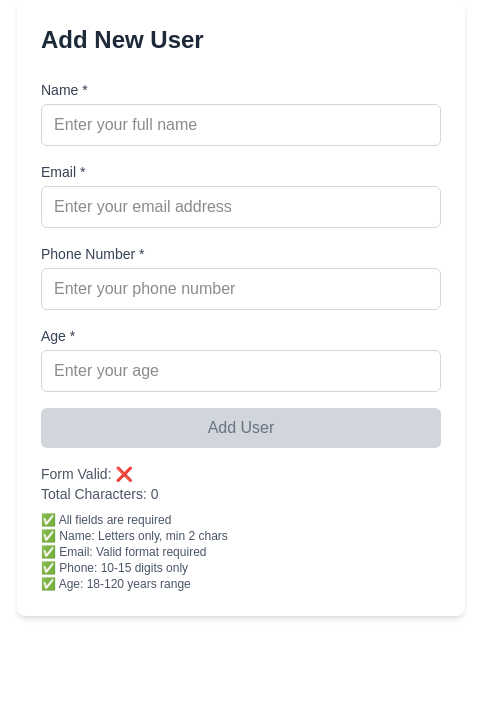
Scenario: UserForm Component - Working Tests Only › validates phone number format and length requirements
The image size is (483, 720).
Note: Test phone number too short
Type "123" into the field labelled "Phone Number *" at (241, 289), box top-left (41, 268), bottom-right (441, 310)
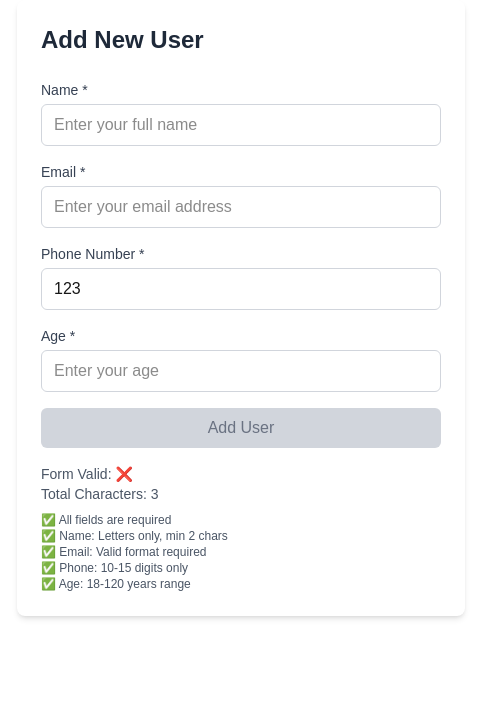
Click the button "Add User" at (241, 428), box top-left (41, 408), bottom-right (441, 448)
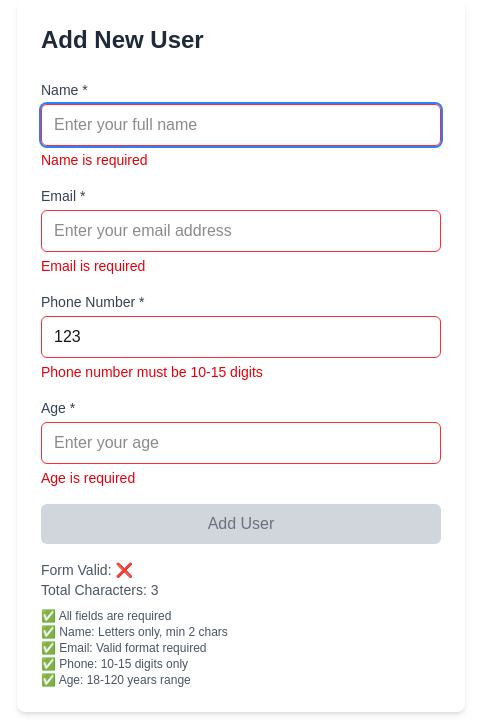
Check: the text "Phone number must be 10-15 digits" is shown, box top-left (41, 364), bottom-right (263, 380)
